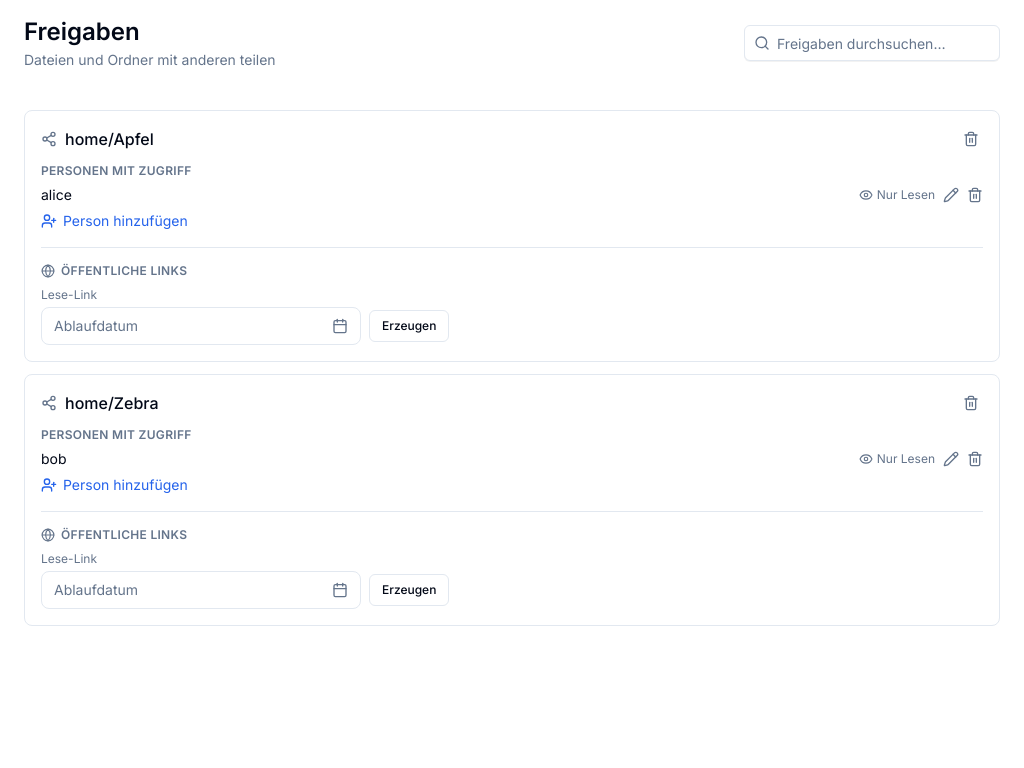
Scenario: SharesPage — Suchfilter › filtert Freigaben nach Pfad/Empfänger
The width and height of the screenshot is (1024, 768).
Expected: the text "alice" is shown, [41,186,72,203]
Type "zebra" into the search field with placeholder "Freigaben durchsuchen…" at (872, 43), box [744,25,1000,61]
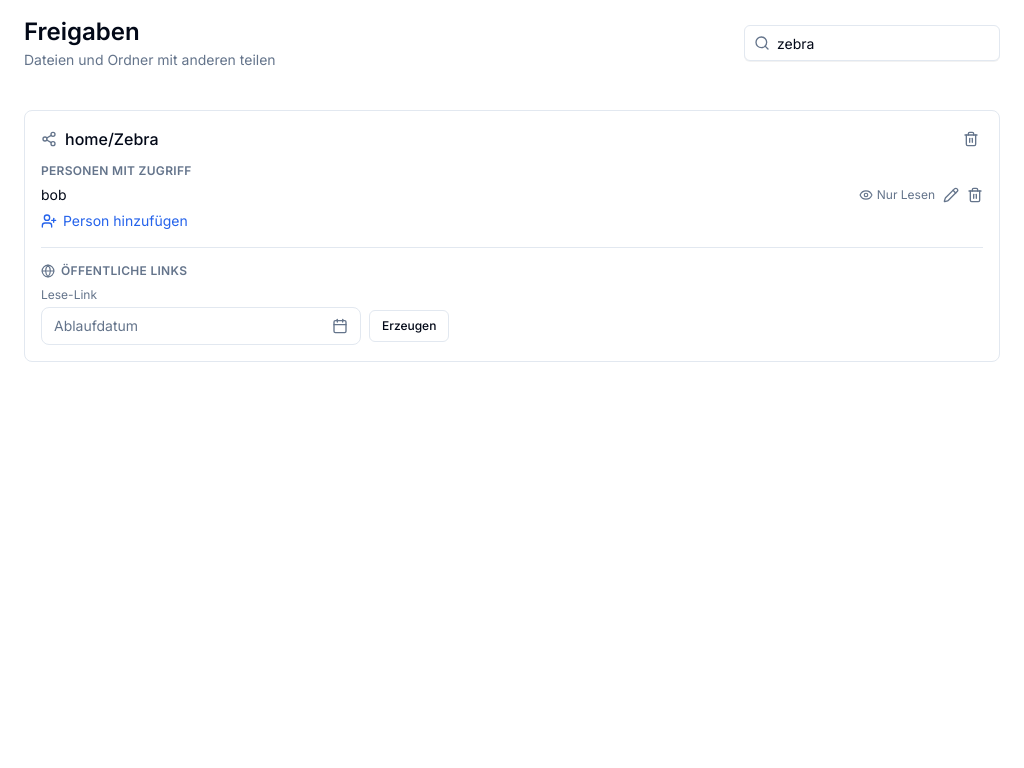
Expected: the text "bob" is shown, [41,186,66,203]
Expected: the text "alice" is gone
